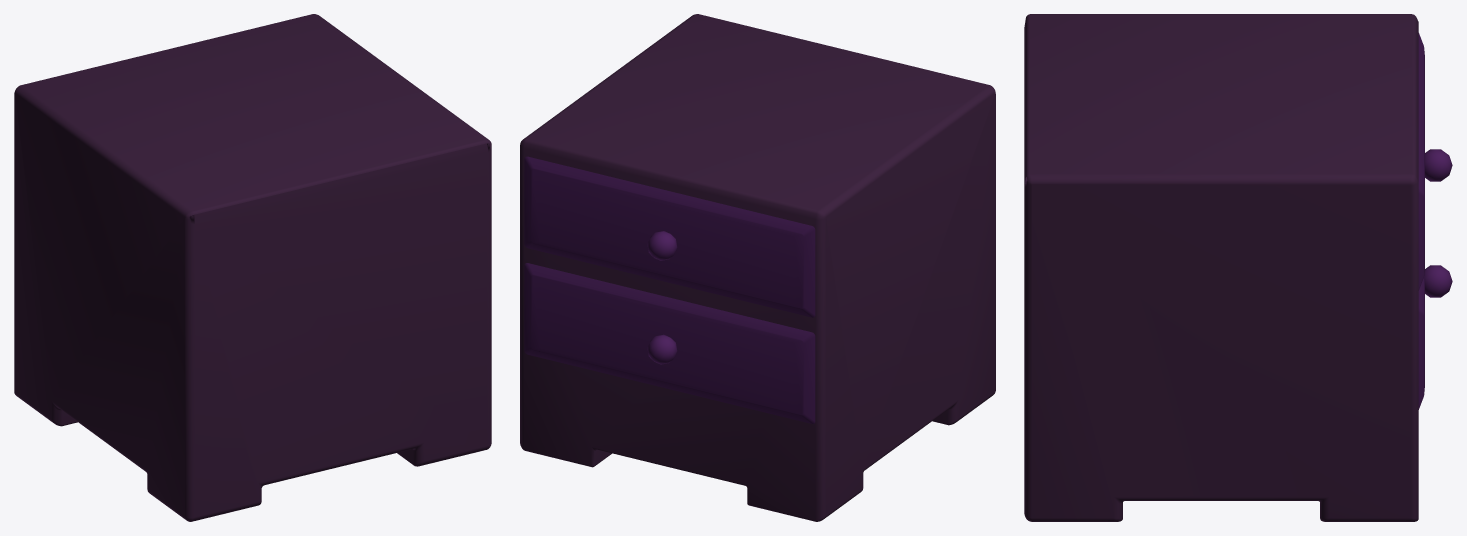
Rendered from purple bedside table.fbx.
3 renders of one model, left to right at view 1: azimuth 30°, elevation 25°; view 2: azimuth 150°, elevation 25°; view 3: azimuth 270°, elevation 25°, orthographic. The views are drawn at different scales.
Parts seen in each view (by area): view 1: Cube; view 2: Cube; view 3: Cube.
Part boxes in pixels (x1,y1,x2,y2): Cube: (14, 14, 491, 521); Cube: (520, 14, 995, 521); Cube: (1024, 14, 1452, 521).
Size of the model in its own units: 54.5 by 52.89 by 59.1.
